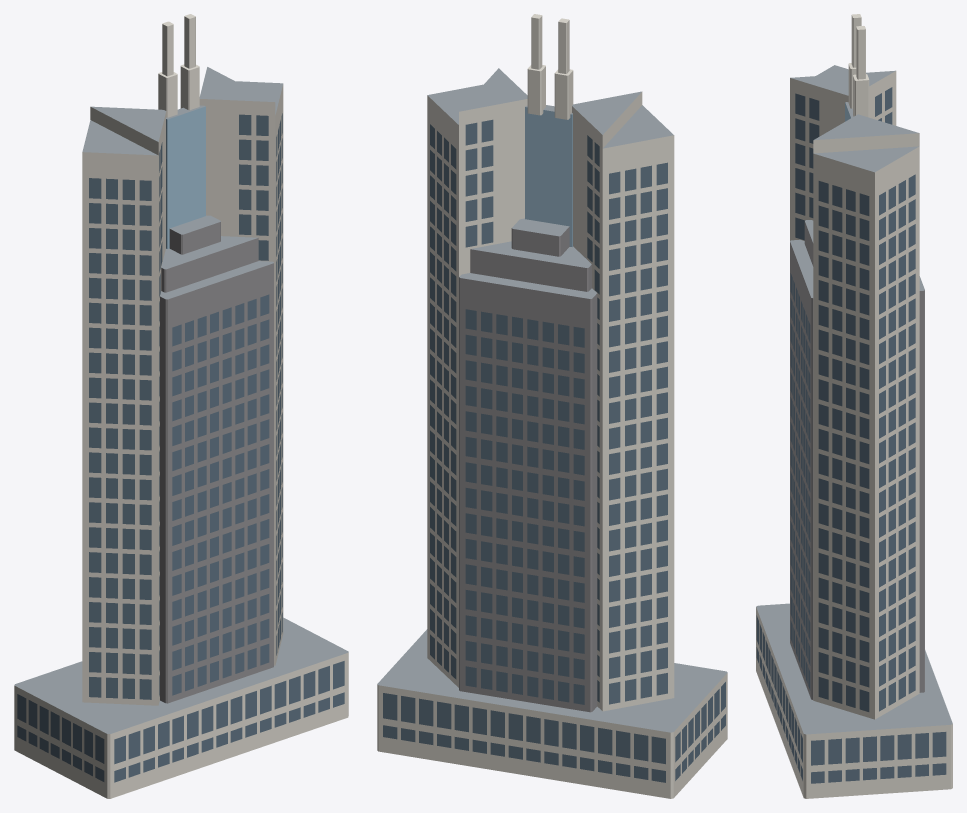
The model's file is detail.glb.
The picture shows the model from 3 angles, left to right: view 1: azimuth 30°, elevation 25°; view 2: azimuth 150°, elevation 25°; view 3: azimuth 270°, elevation 25°; orthographic projection. The views are drawn at different scales.
Visible parts, largest first — view 1: 345-california-center; view 2: 345-california-center; view 3: 345-california-center.
Part boxes in pixels (bbox=[...]): 345-california-center: bbox=[14, 14, 348, 798]; 345-california-center: bbox=[377, 14, 727, 798]; 345-california-center: bbox=[756, 14, 952, 798].
Size of the model in its own units: 89.85 by 214 by 53.94.
